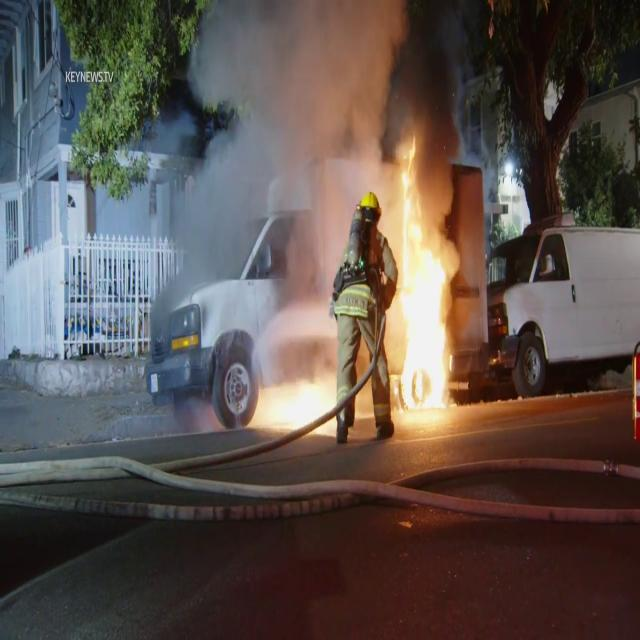Fire: (387, 157, 461, 415), (254, 372, 344, 441)
Smoke: (148, 0, 412, 333)
